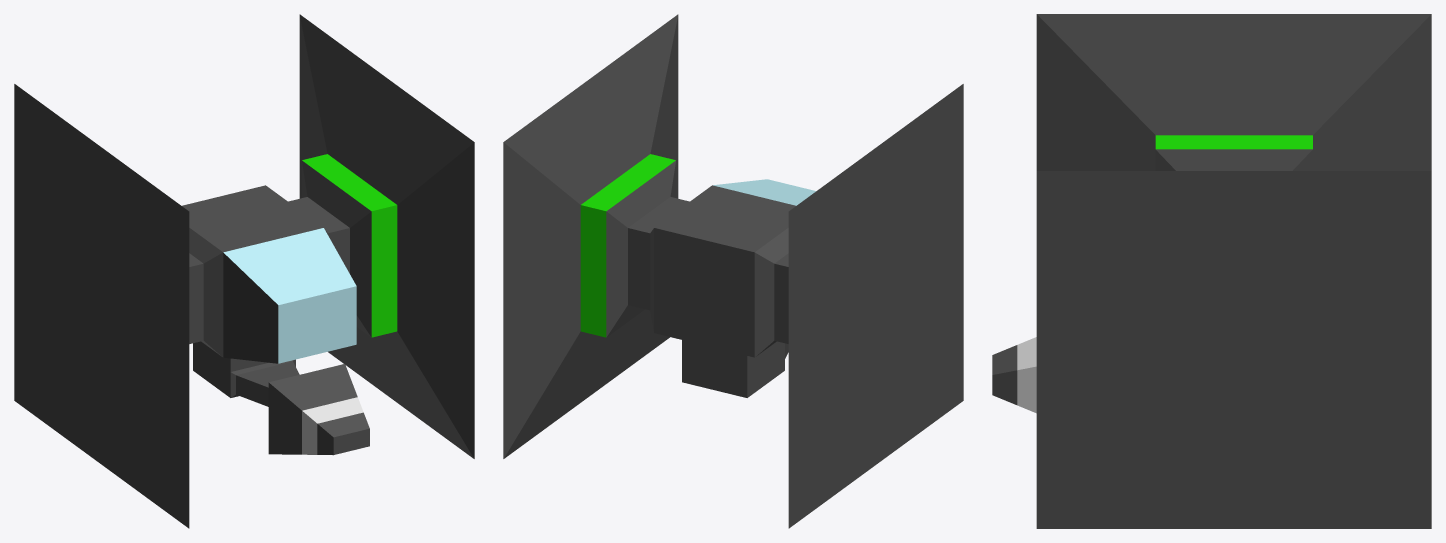
The model's file is miner_ship.fbx.
The picture shows the model from 3 angles, left to right: view 1: azimuth 30°, elevation 25°; view 2: azimuth 150°, elevation 25°; view 3: azimuth 270°, elevation 25°; orthographic projection. The views are drawn at different scales.
Visible parts, largest first — view 1: Cube; view 2: Cube; view 3: Cube.
Boxes of the visible parts, x1,y1,x2,y2 form: Cube: [14, 14, 474, 528]; Cube: [503, 14, 963, 528]; Cube: [992, 14, 1431, 528].
Size of the model in its own units: 153 by 163 by 181.
